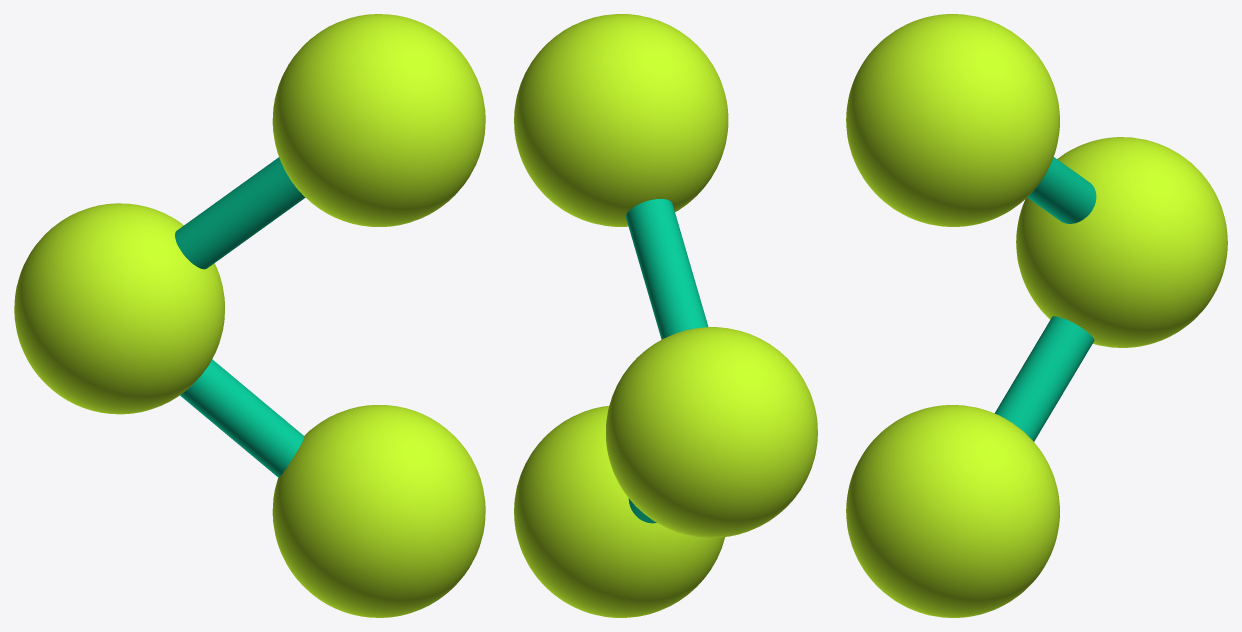
File: share-3d-animated-icon-837864341844.glb
The picture shows the model from 3 angles, left to right: view 1: azimuth 30°, elevation 25°; view 2: azimuth 150°, elevation 25°; view 3: azimuth 270°, elevation 25°; orthographic projection.
Parts seen in each view (by area): view 1: Sphere.033, Sphere.035, Sphere.034, NurbsPath.130, NurbsPath.131; view 2: Sphere.034, Sphere.033, Sphere.035, NurbsPath.130; view 3: Sphere.033, Sphere.035, Sphere.034, NurbsPath.131, NurbsPath.130.
Part boxes in pixels (left/top/right/bottom): Sphere.033: left=272, top=14, right=485, bottom=226; Sphere.035: left=272, top=405, right=485, bottom=617; Sphere.034: left=14, top=203, right=224, bottom=414; NurbsPath.130: left=175, top=157, right=305, bottom=269; NurbsPath.131: left=180, top=359, right=304, bottom=477; Sphere.034: left=606, top=327, right=817, bottom=537; Sphere.033: left=514, top=14, right=728, bottom=226; Sphere.035: left=514, top=406, right=724, bottom=617; NurbsPath.130: left=626, top=199, right=708, bottom=339; Sphere.033: left=846, top=14, right=1059, bottom=226; Sphere.035: left=846, top=405, right=1059, bottom=617; Sphere.034: left=1016, top=137, right=1227, bottom=347; NurbsPath.131: left=994, top=316, right=1094, bottom=441; NurbsPath.130: left=1027, top=157, right=1096, bottom=223.
Size of the model in its own units: 3.57 by 5.54 by 3.28.
